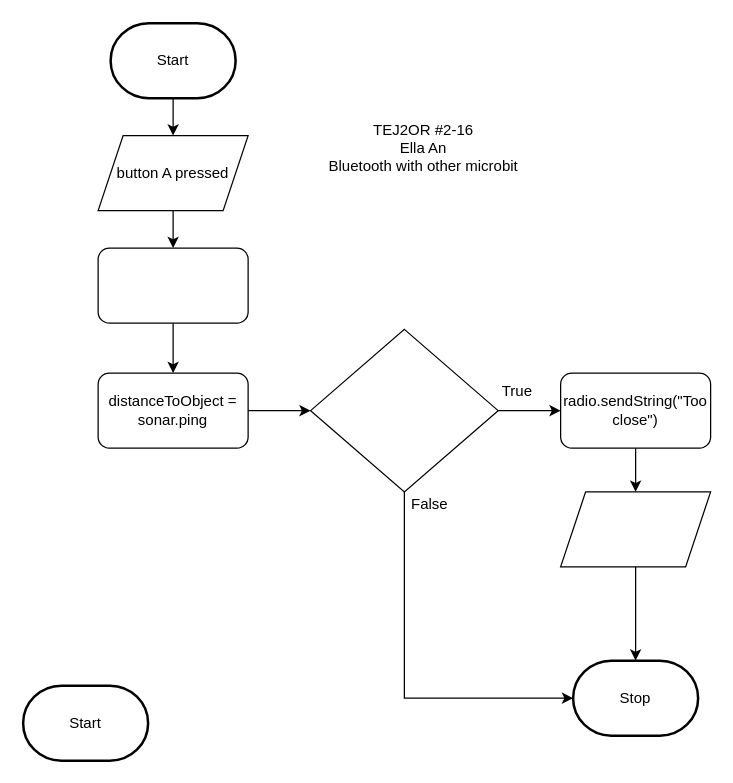
The diagram is 733 pixels wide and 783 high, and some of its shapes have lost their labels. The shapes that lost their labels are listed below. From the top down, each one's centre as x and y in pixels, then its label:
(172,285): radio.setGroup(133)
(403,410): if distanceToObject <= 10
(635,529): Sends the string to the other microbit
